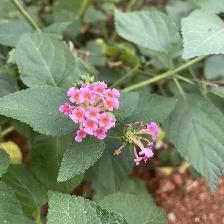common lanthana: (62, 80, 125, 148)
